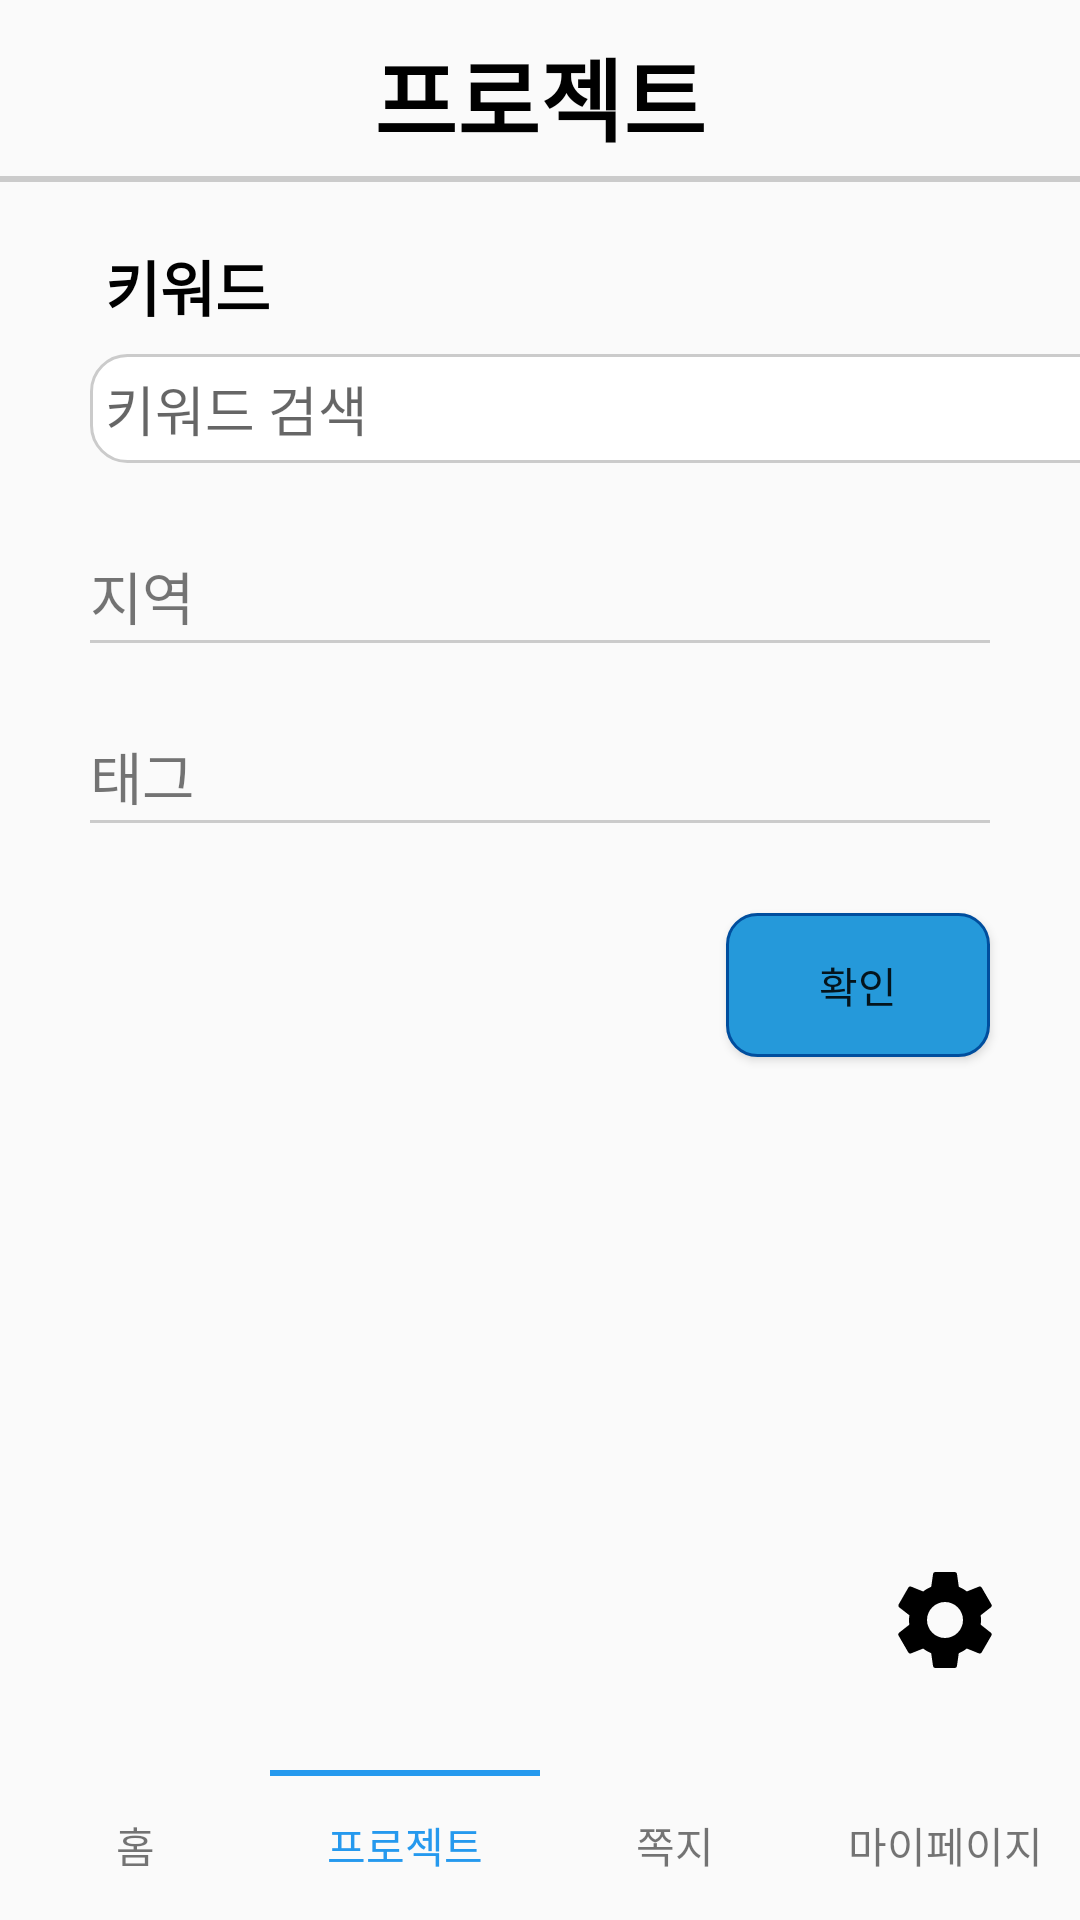

Where to tap for icons on this 1080x1920 app screen, as (x=x, y=y):
set: (x=945, y=1620)
